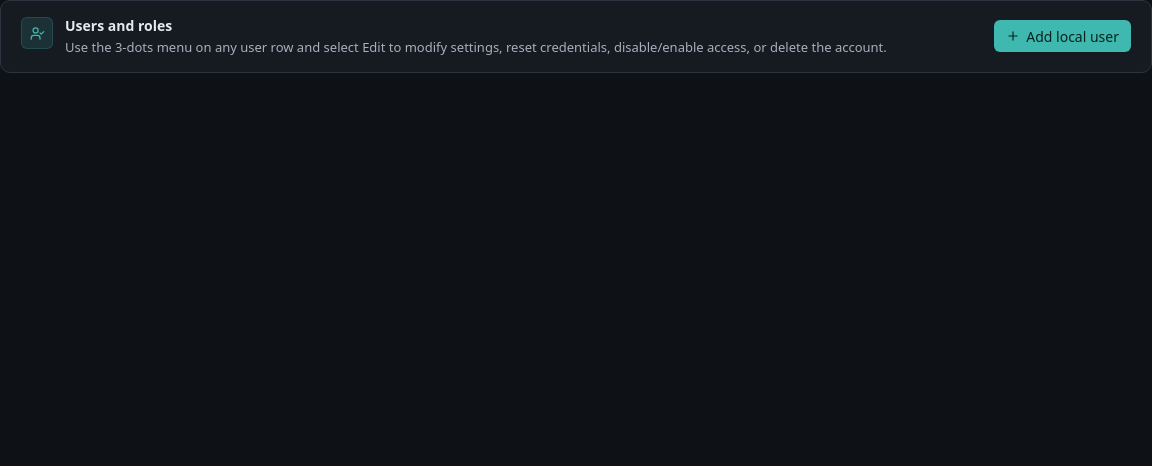
Scenario: does not send a new user password over HTTP
This screenshot has width=1152, height=466.
Click the button "Add local user": click(1063, 36) top-left (994, 20), bottom-right (1131, 52)
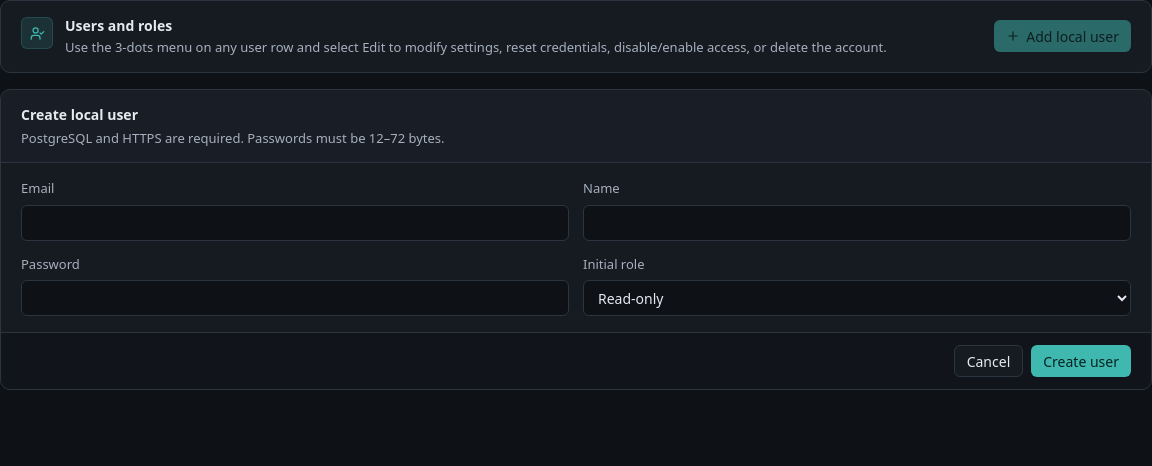
In the field labelled "Email": (295, 222) top-left (21, 204), bottom-right (569, 240), type "new@example.com"
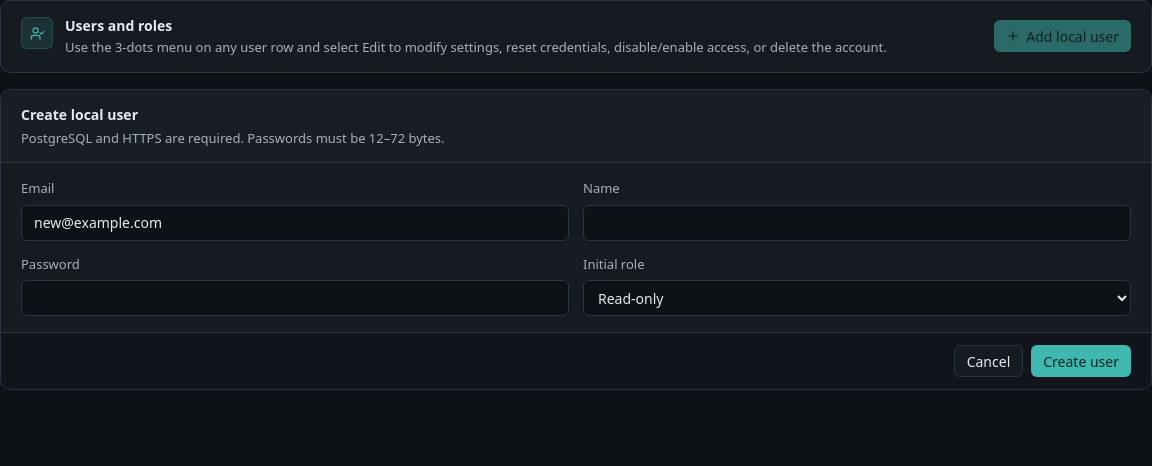
In the password field labelled "Password": (295, 298) top-left (21, 280), bottom-right (569, 316), type "test-password-123"
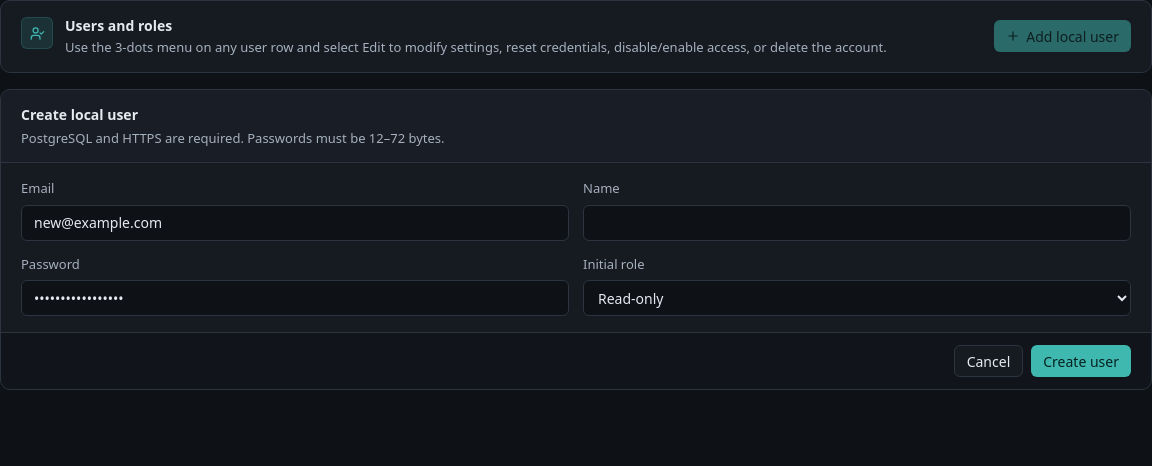
Click the button "Create user": click(1081, 361) top-left (1031, 345), bottom-right (1131, 377)
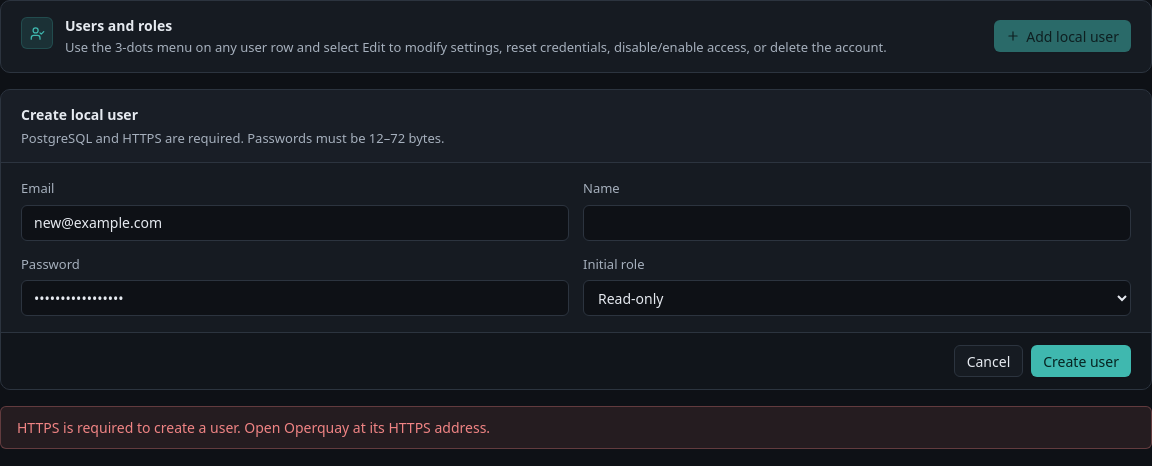
Expected: the message shows "HTTPS is required", top-left (17, 418), bottom-right (490, 437)
